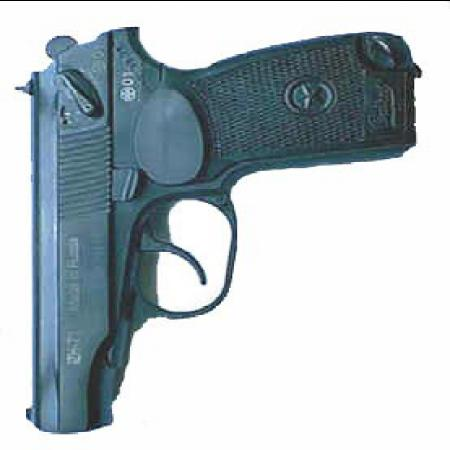Pistol: (13, 26, 419, 434)
